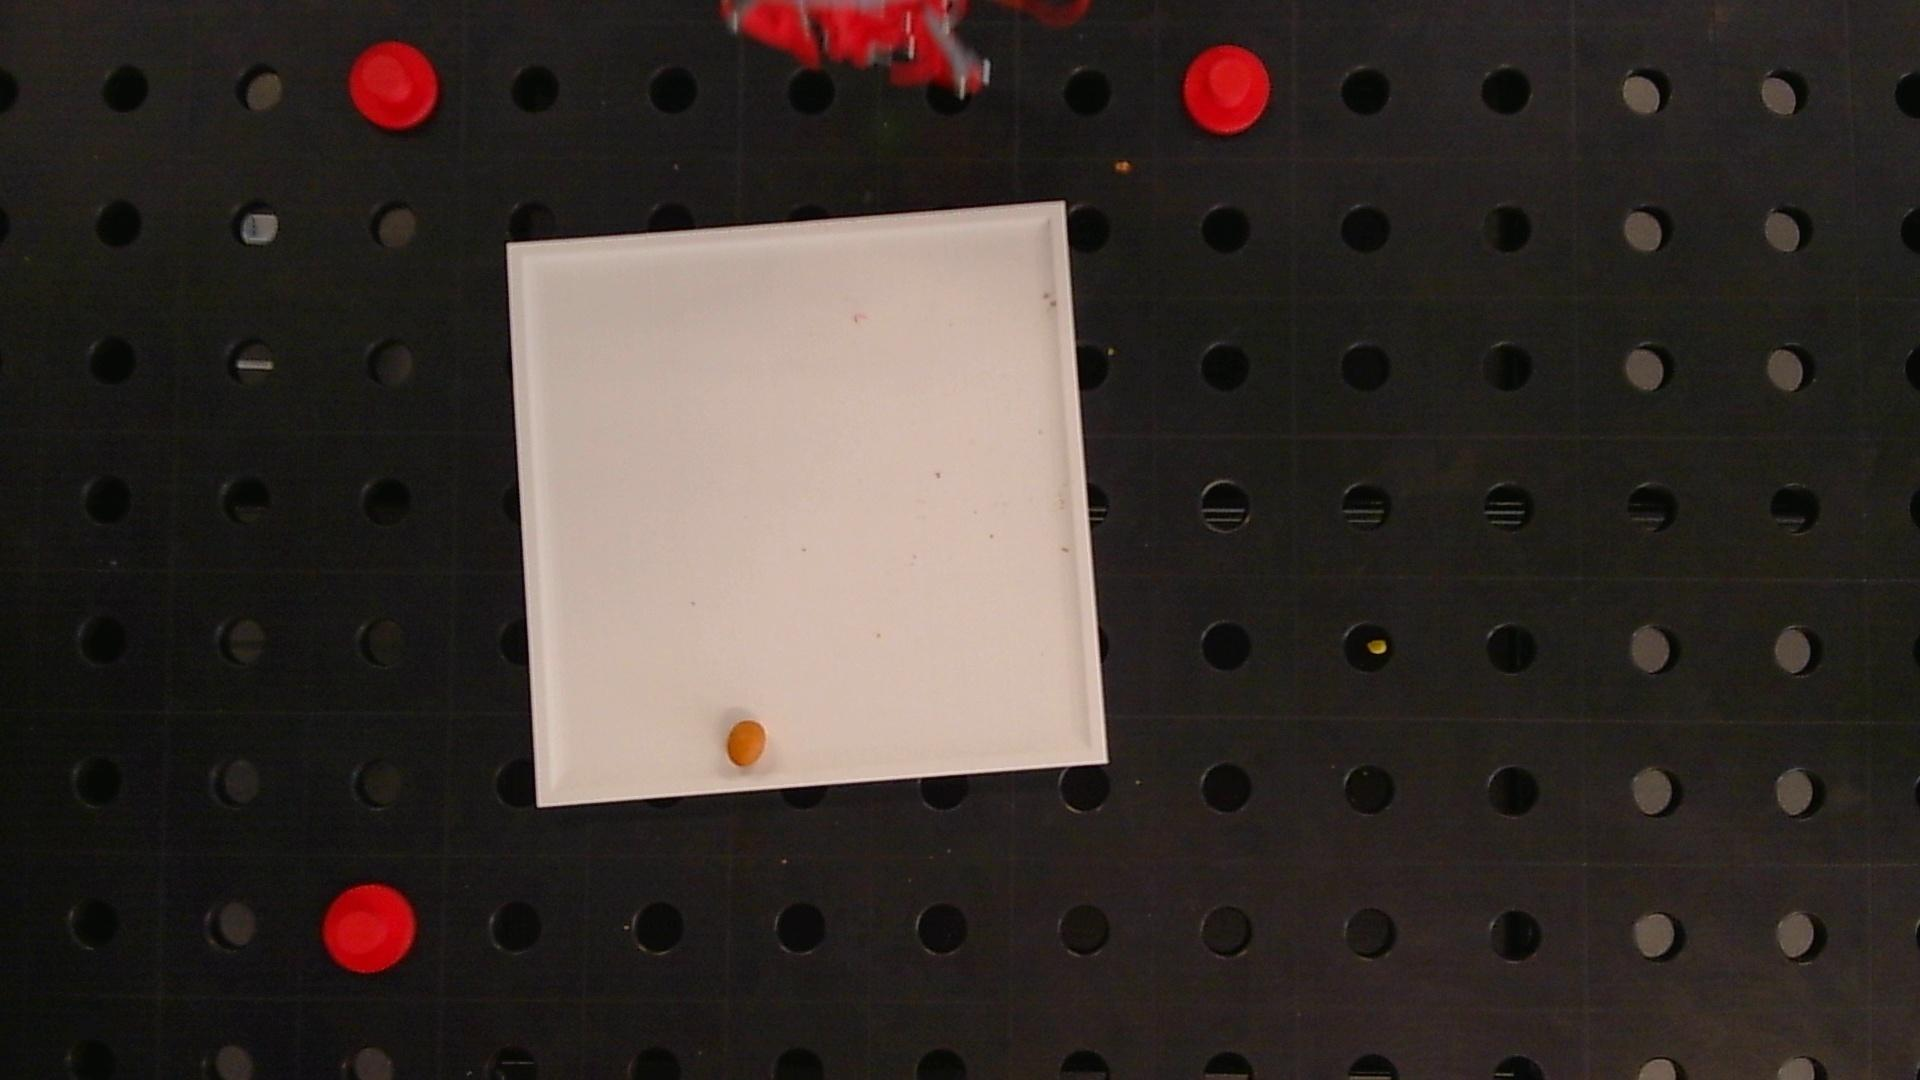orange: (727, 720, 766, 766)
